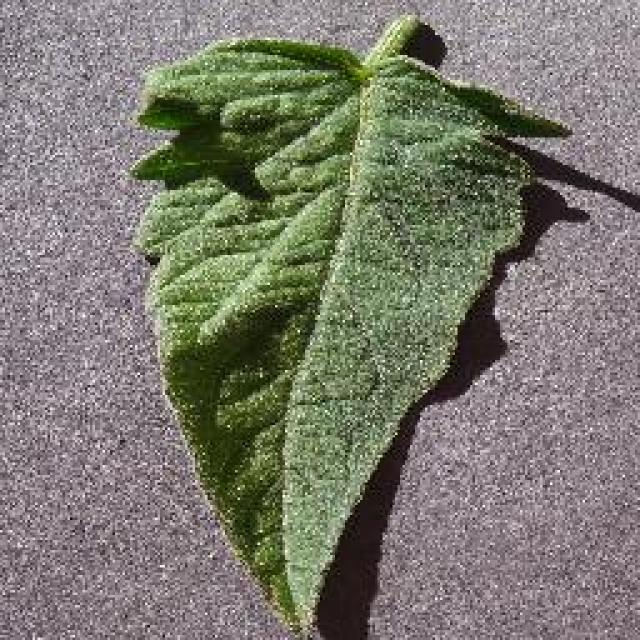Tomato___healthy: (119, 13, 574, 638)
